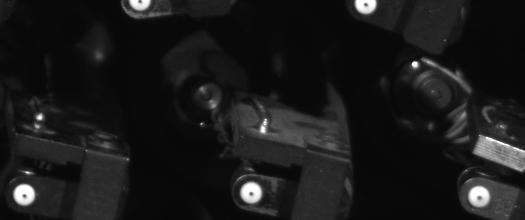fiber: (9, 181, 39, 210), (235, 178, 264, 207), (465, 183, 493, 211), (348, 1, 384, 19), (126, 1, 156, 18)
